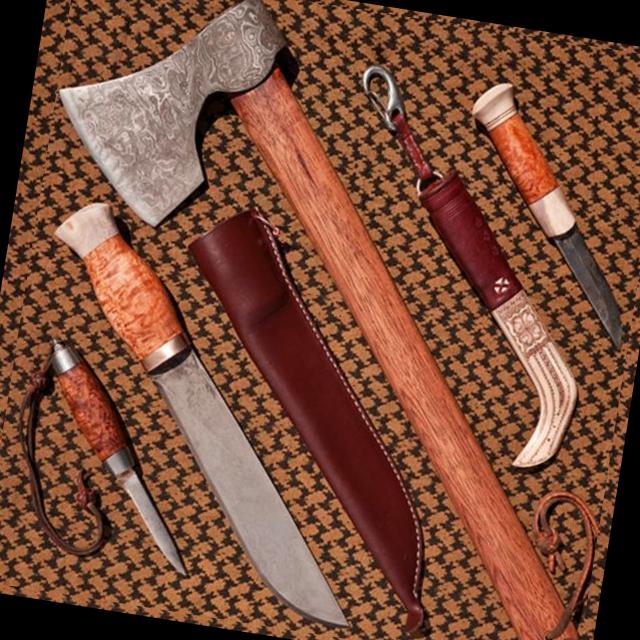Axe: (58, 0, 583, 640)
